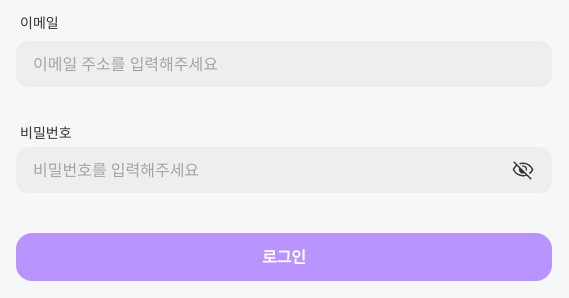
it: 🧩 LoginForm — 폼 유효성 검증 › 비밀번호에 동일 문자가 3번 이상 연속되면 에러 메시지가 표시된다
In the field labelled "이메일": [284, 64] box [33,52,535,76], type "repeat@test.com"
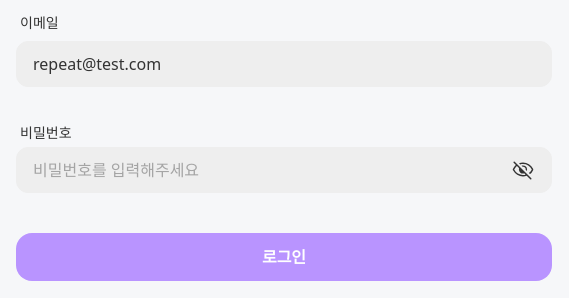
In the password field labelled "비밀번호": [272, 170] box [33,158,511,182], type "aaabbb1234"
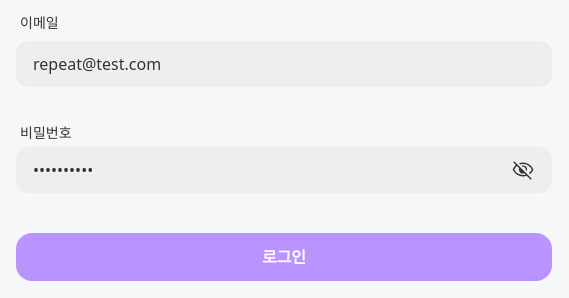
Click the button "로그인": [284, 257] box [16,233,552,281]
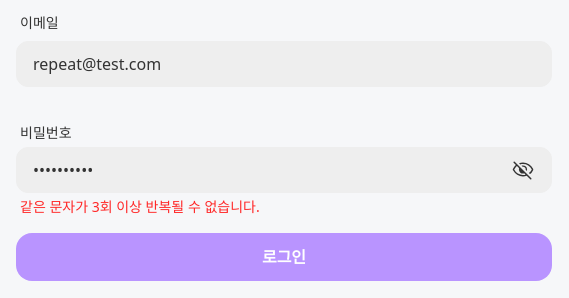
Expected: the text "같은 문자가 3회 이상 반복될 수 없습니다." is shown, [20,197,260,216]
